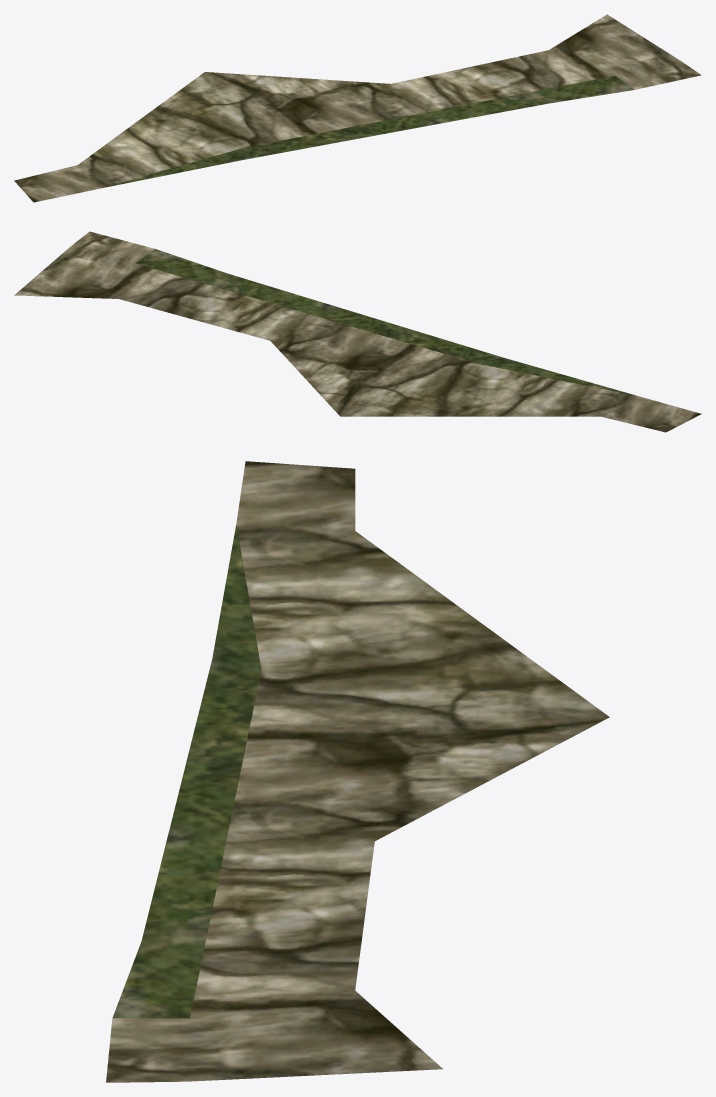
Rendered from CB_NEWPLAYSURFACE_CB_PLAYSURFACE93.fbx.
3 renders of one model, top to bottom at view 1: azimuth 30°, elevation 25°; view 2: azimuth 150°, elevation 25°; view 3: azimuth 270°, elevation 25°, orthographic. The views are drawn at different scales.
Parts seen in each view (by area): view 1: CB_NEWPLAYSURFACE_CB_PLAYSURFACE93; view 2: CB_NEWPLAYSURFACE_CB_PLAYSURFACE93; view 3: CB_NEWPLAYSURFACE_CB_PLAYSURFACE93.
Boxes of the visible parts, x1,y1,x2,y2 form: CB_NEWPLAYSURFACE_CB_PLAYSURFACE93: (14,14,701,202); CB_NEWPLAYSURFACE_CB_PLAYSURFACE93: (14,231,701,432); CB_NEWPLAYSURFACE_CB_PLAYSURFACE93: (106,461,609,1082).
Bounding box in the file's own units: 174112 × 450 × 59989.
2 materials, 2 textured.
